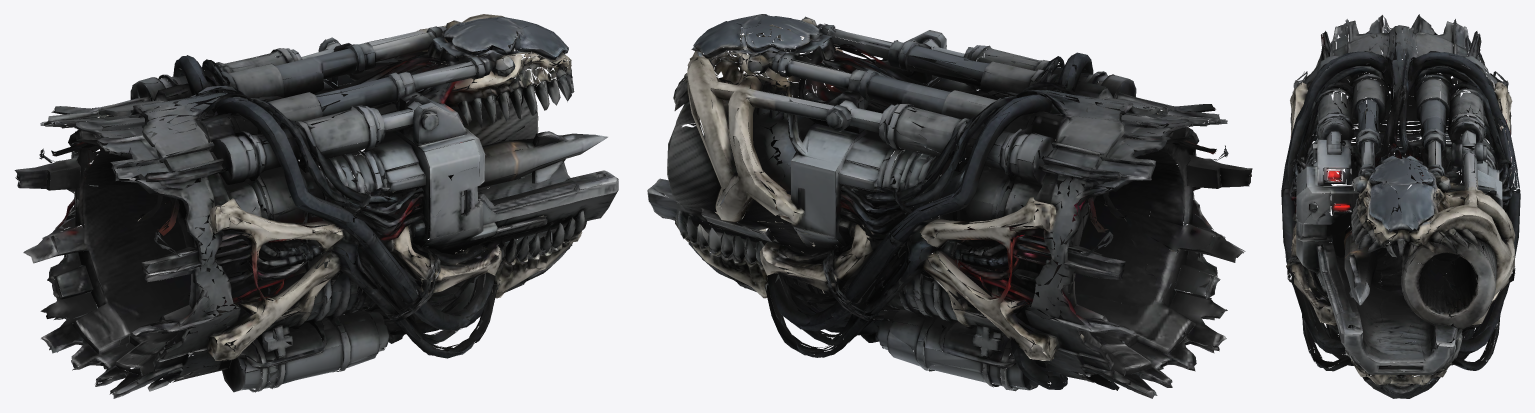
File: tank_kinetic_ram_breech.glb
The picture shows the model from 3 angles, left to right: view 1: azimuth 30°, elevation 25°; view 2: azimuth 150°, elevation 25°; view 3: azimuth 270°, elevation 25°; orthographic projection. The views are drawn at different scales.
Parts seen in each view (by area): view 1: node_0; view 2: node_0; view 3: node_0.
Boxes of the visible parts, x1,y1,x2,y2 form: node_0: (14, 14, 618, 398); node_0: (647, 14, 1252, 398); node_0: (1281, 14, 1520, 398).
Size of the model in its own units: 1.08 by 0.588 by 0.5339.
Materials: 1 (1 with a texture image).
